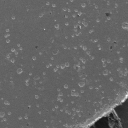corrosion: (16, 41, 25, 51), (70, 89, 81, 97), (77, 80, 86, 89), (56, 92, 64, 102), (3, 99, 12, 107), (24, 78, 32, 87), (16, 67, 24, 75), (101, 68, 109, 76), (53, 23, 60, 31), (121, 21, 128, 29), (64, 60, 70, 69), (45, 63, 52, 70), (31, 55, 37, 63), (82, 20, 88, 28), (104, 12, 112, 18), (4, 38, 11, 44), (10, 14, 16, 21), (62, 83, 69, 89), (34, 93, 41, 99), (80, 2, 87, 8), (51, 2, 57, 9), (81, 45, 88, 51), (108, 76, 114, 83), (92, 38, 98, 44), (118, 57, 124, 63), (37, 110, 43, 116), (72, 45, 78, 51), (11, 48, 16, 54), (71, 34, 76, 40), (72, 13, 77, 19), (97, 46, 102, 52), (53, 105, 59, 110), (95, 19, 101, 24), (64, 22, 69, 27)
